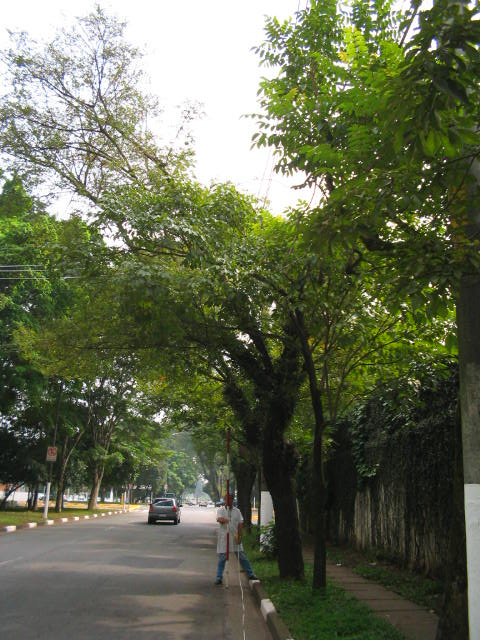crown: (1, 165, 453, 419)
stem: (255, 410, 312, 583)
stick: (217, 427, 234, 588)
tree: (1, 165, 454, 583)
